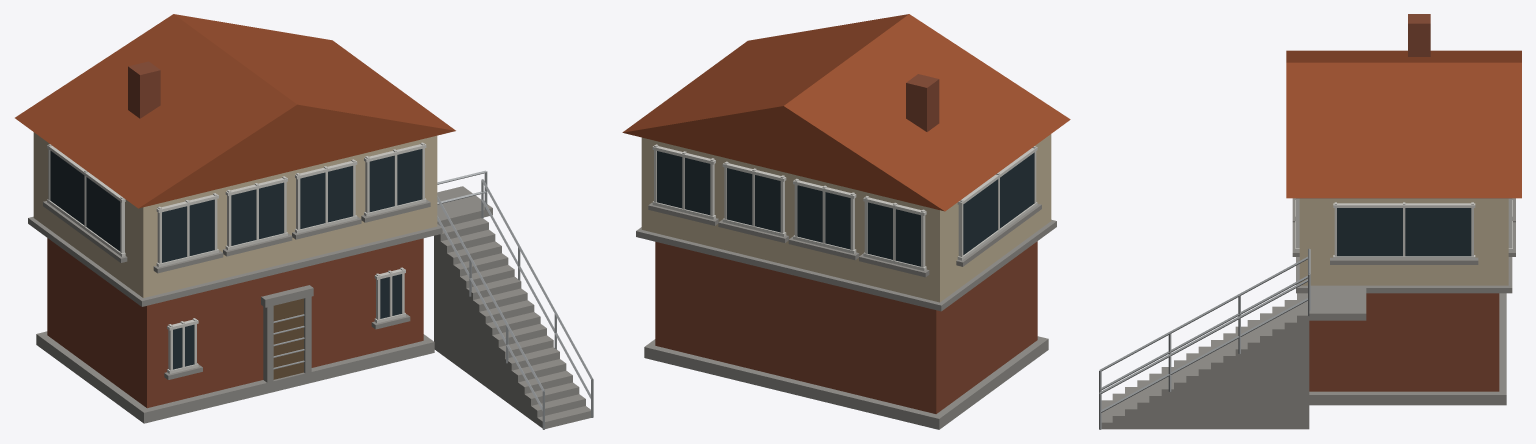
The model's file is Scenery_SignalBox.fbx.
3 renders of one model, left to right at view 1: azimuth 30°, elevation 25°; view 2: azimuth 150°, elevation 25°; view 3: azimuth 270°, elevation 25°, orthographic. The views are drawn at different scales.
Visible parts, largest first — view 1: Scenery_SignalBox_LOD0; view 2: Scenery_SignalBox_LOD0; view 3: Scenery_SignalBox_LOD0.
Boxes of the visible parts, x1,y1,x2,y2 form: Scenery_SignalBox_LOD0: (15, 14, 593, 429); Scenery_SignalBox_LOD0: (622, 14, 1070, 429); Scenery_SignalBox_LOD0: (1099, 14, 1521, 429).
Size of what is drawn, in the model's own units: 10.6 by 8.15 by 11.13.
